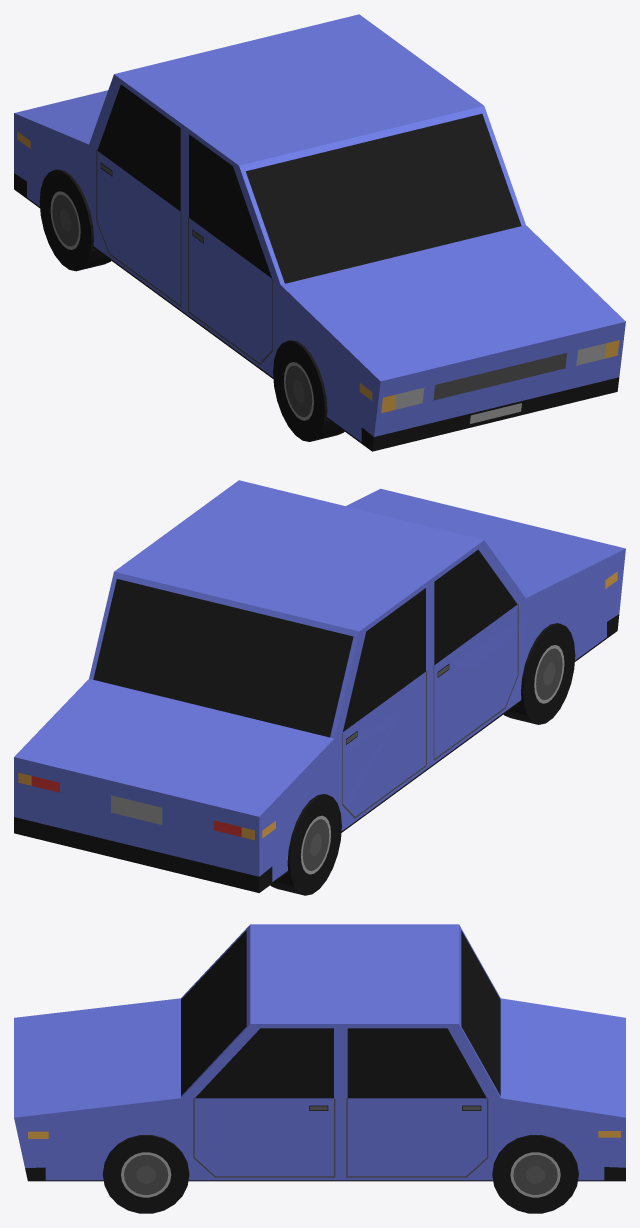
Rendered from SM_Vehicle01.fbx.
3 renders of one model, top to bottom at view 1: azimuth 30°, elevation 25°; view 2: azimuth 150°, elevation 25°; view 3: azimuth 270°, elevation 25°, orthographic. The views are drawn at different scales.
Visible parts, largest first — view 1: SM_Vehicle01; view 2: SM_Vehicle01; view 3: SM_Vehicle01.
Part boxes in pixels (x1,y1,x2,y2): SM_Vehicle01: (14, 14, 625, 451); SM_Vehicle01: (14, 480, 625, 895); SM_Vehicle01: (14, 924, 625, 1213).
Bounding box in the file's own units: 86.75 × 74.8 × 220.
